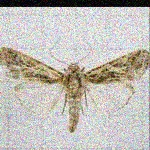Spodoptera litura: (0, 35, 149, 134)
